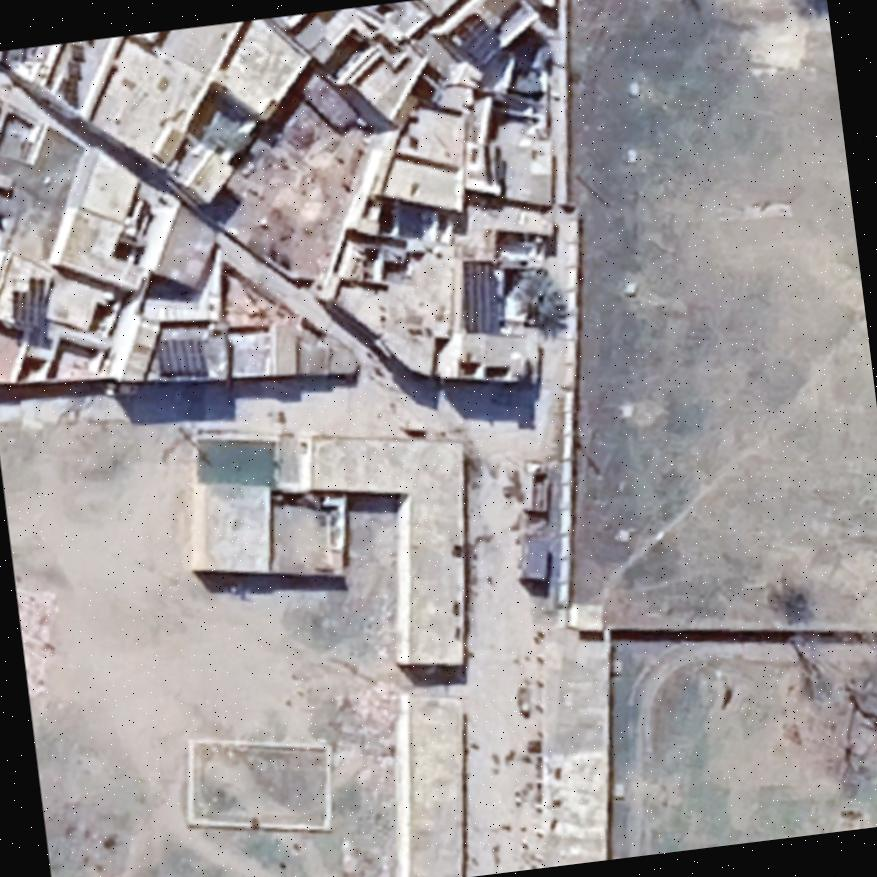Solarpanel: (449, 252, 511, 344), (445, 6, 509, 74), (2, 271, 57, 337), (150, 330, 212, 384)
